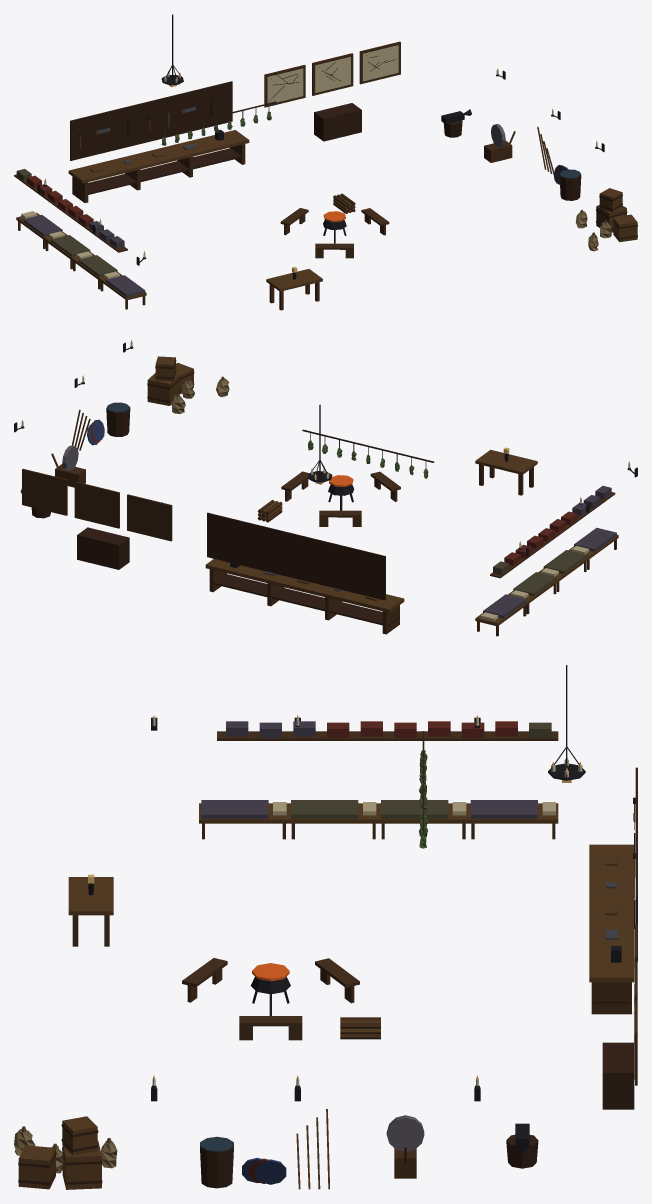
The model's file is westwall-refuge.glb.
The picture shows the model from 3 angles, top to bottom: view 1: azimuth 30°, elevation 25°; view 2: azimuth 150°, elevation 25°; view 3: azimuth 270°, elevation 25°; orthographic projection. The views are drawn at different scales.
Parts seen in each view (by area): view 1: westwall-refuge; view 2: westwall-refuge; view 3: westwall-refuge.
Part boxes in pixels (x1=…): westwall-refuge: x1=14, y1=14, x2=637, y2=310; westwall-refuge: x1=14, y1=340, x2=637, y2=636; westwall-refuge: x1=14, y1=665, x2=637, y2=1189.
Bounding box in the file's own units: 19.56 × 7.01 × 13.89.
